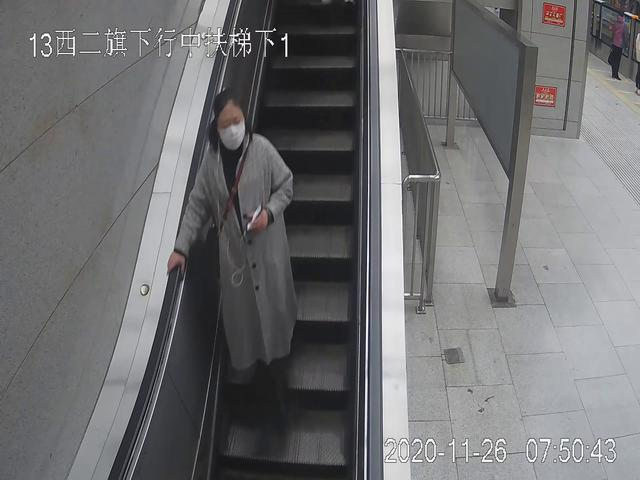person: (166, 93, 296, 455), (607, 9, 625, 78)
